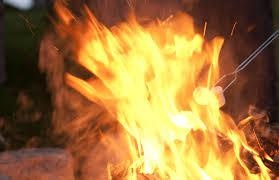fire: (67, 14, 253, 176)
